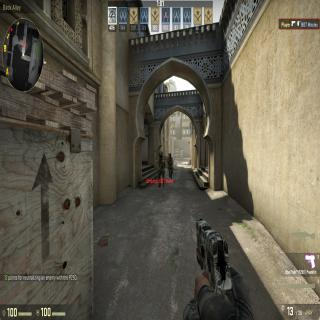CT-Body: (157, 150, 165, 187), (168, 152, 172, 178)
CT-Head: (168, 152, 172, 158), (159, 150, 162, 157)
